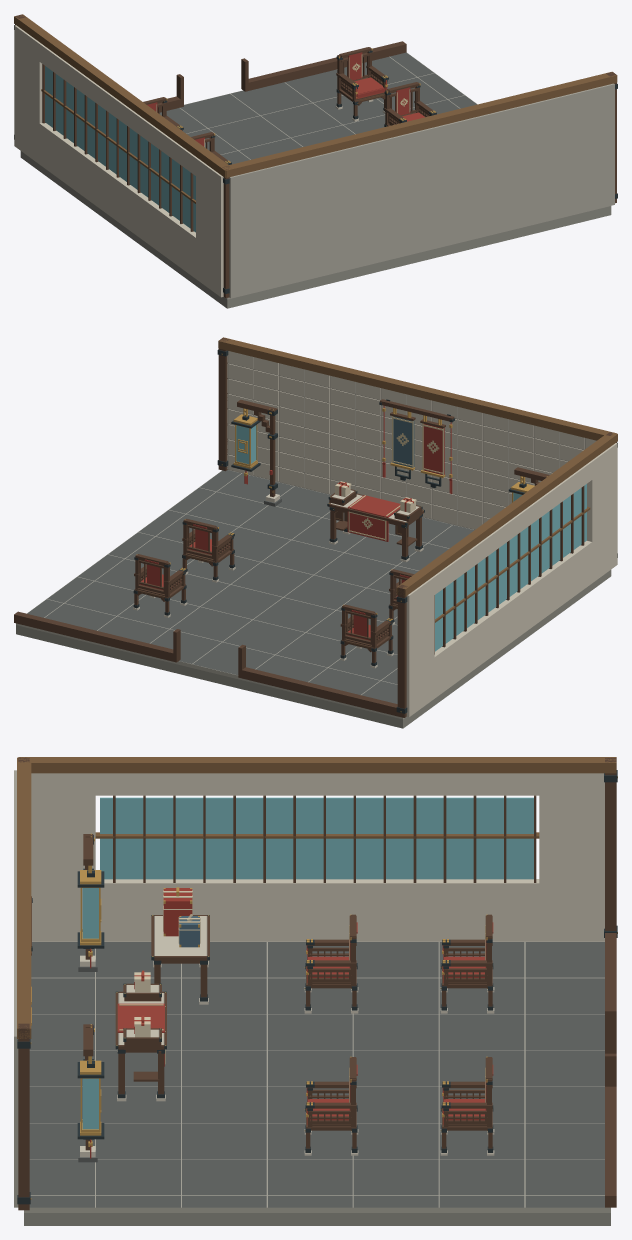
File: visual-far.glb
3 renders of one model, top to bottom at view 1: azimuth 30°, elevation 25°; view 2: azimuth 150°, elevation 25°; view 3: azimuth 270°, elevation 25°, orthographic. The views are drawn at different scales.
Visible parts, largest first — view 1: 真实窗洞、木梁与切角房间墙, 分层实心台基与独立石铺面, 婚礼座席 (×2); view 2: 真实窗洞、木梁与切角房间墙, 分层实心台基与独立石铺面, 婚礼座席 (×3), 婚礼礼仪台, 节庆旗幡挂件, 节庆花灯外壳 · 独立光学用途 (×2); view 3: 分层实心台基与独立石铺面, 真实窗洞、木梁与切角房间墙, 婚礼座席 (×4), 节庆花灯外壳 · 独立光学用途 (×2), 婚礼礼仪台, 餐桌桌架, 婚丧礼品包.
Part boxes in pixels (x1,y1,x2,y2): 真实窗洞、木梁与切角房间墙: (14, 14, 617, 298); 分层实心台基与独立石铺面: (20, 52, 611, 308); 婚礼座席 (×2): (335, 47, 436, 126); 真实窗洞、木梁与切角房间墙: (14, 337, 617, 717); 分层实心台基与独立石铺面: (16, 470, 611, 728); 婚礼座席 (×3): (133, 518, 393, 668); 婚礼礼仪台: (327, 481, 424, 562); 节庆旗幡挂件: (379, 399, 455, 493); 节庆花灯外壳 · 独立光学用途 (×2): (231, 399, 549, 506); 分层实心台基与独立石铺面: (24, 941, 610, 1225); 真实窗洞、木梁与切角房间墙: (14, 757, 617, 1210); 婚礼座席 (×4): (304, 914, 494, 1155); 节庆花灯外壳 · 独立光学用途 (×2): (77, 833, 104, 1162); 婚礼礼仪台: (115, 970, 166, 1101); 餐桌桌架: (151, 915, 209, 1004); 婚丧礼品包: (163, 887, 200, 947).
Size of the model in its own units: 9.04 by 3.08 by 8.44.
23 materials, 23 textured.
